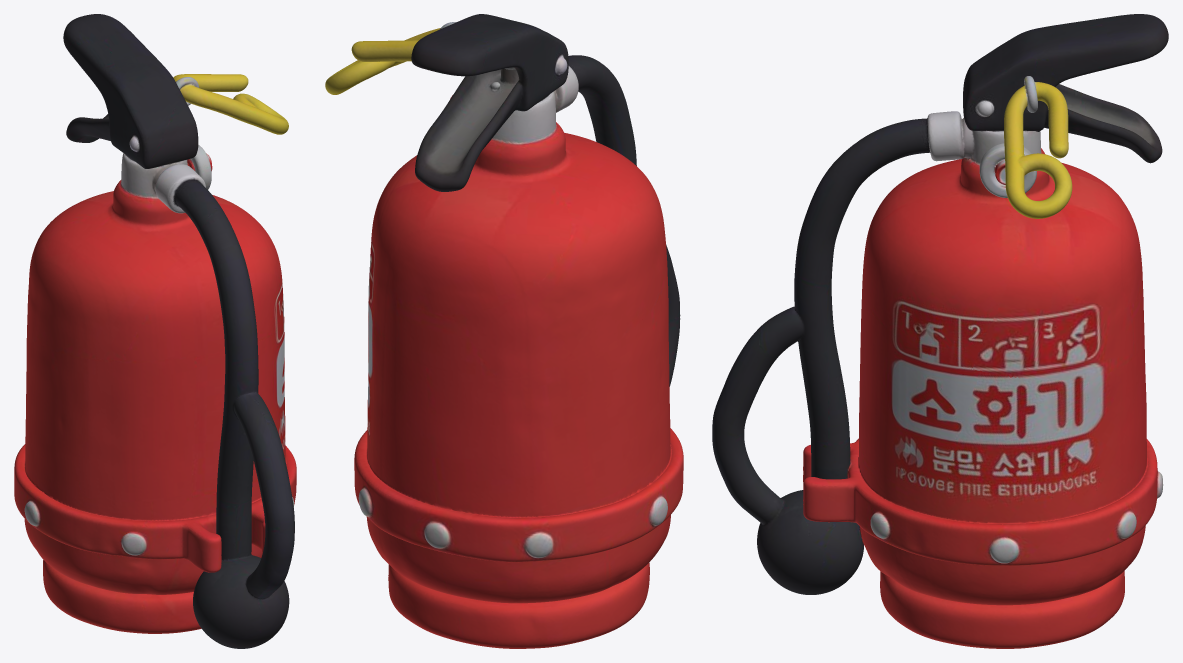
The model's file is FireExtinguisherKR.glb.
3 views of the same model, side by side, from view 1: azimuth 30°, elevation 25°; view 2: azimuth 150°, elevation 25°; view 3: azimuth 270°, elevation 25° (orthographic). The views are drawn at different scales.
Visible parts, largest first — view 1: tripo_node_223ce99b-bbba-47c7-ab50-bc728296a539; view 2: tripo_node_223ce99b-bbba-47c7-ab50-bc728296a539; view 3: tripo_node_223ce99b-bbba-47c7-ab50-bc728296a539.
Part boxes in pixels (x1=…): tripo_node_223ce99b-bbba-47c7-ab50-bc728296a539: x1=14, y1=14, x2=296, y2=648; tripo_node_223ce99b-bbba-47c7-ab50-bc728296a539: x1=325, y1=14, x2=683, y2=648; tripo_node_223ce99b-bbba-47c7-ab50-bc728296a539: x1=712, y1=14, x2=1168, y2=648.
Size of the model in its own units: 0.5399 by 1 by 0.7118.
Materials: 1 (1 with a texture image).
